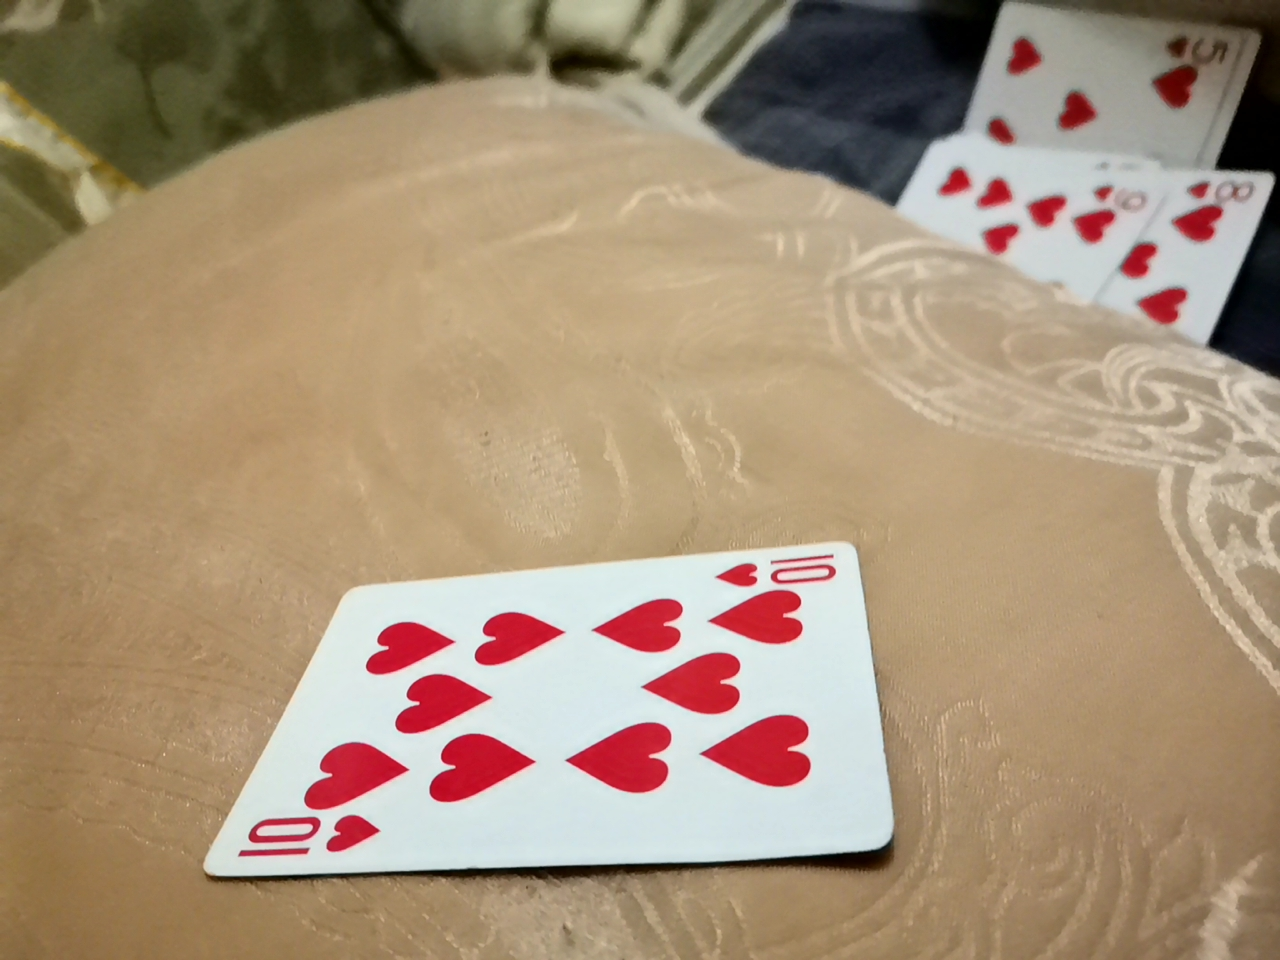hx 10: (211, 523, 888, 864)
